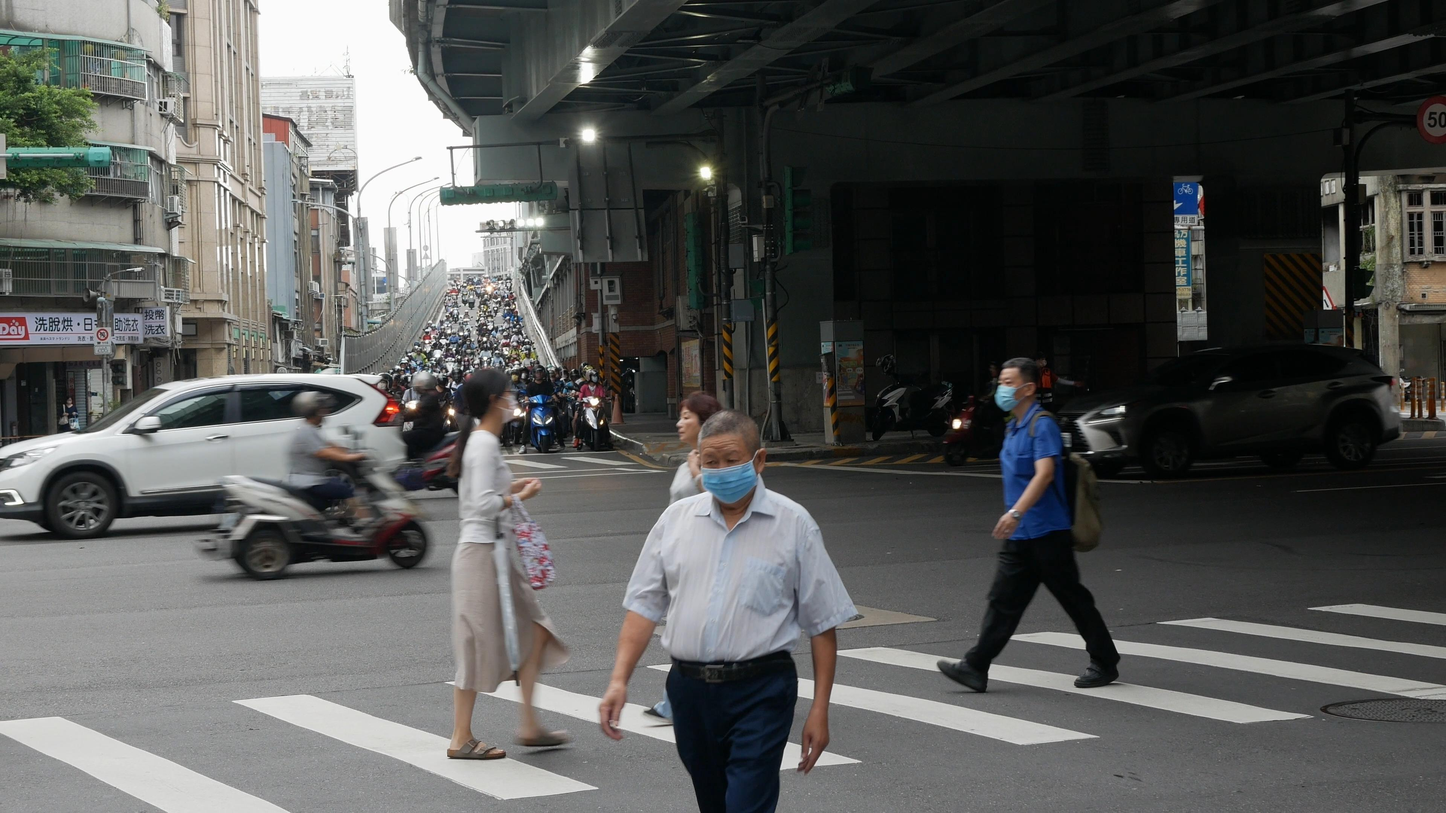driver: (221, 391, 427, 580), (942, 357, 1005, 467), (518, 364, 566, 454), (573, 369, 614, 451)
helmet: (290, 390, 339, 419), (411, 372, 438, 396), (376, 372, 393, 391), (532, 364, 545, 380), (451, 367, 463, 383), (586, 369, 599, 383), (436, 374, 449, 388)
no-helmet: (698, 407, 766, 506), (465, 369, 522, 423), (676, 391, 723, 444), (994, 357, 1039, 412)
